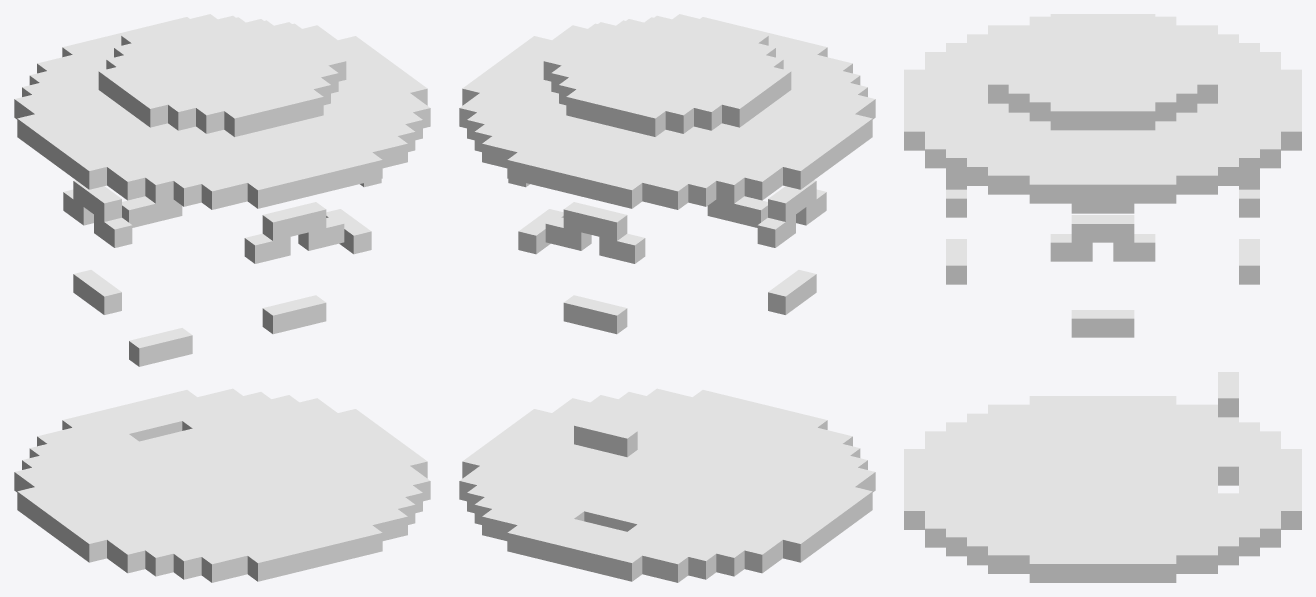
File: StoneTowerColored.obj
The picture shows the model from 3 angles, left to right: view 1: azimuth 30°, elevation 25°; view 2: azimuth 150°, elevation 25°; view 3: azimuth 270°, elevation 25°; orthographic projection.
Bounding box in the file's own units: 1.9 × 2.3 × 1.9.
1 material, 1 textured.
